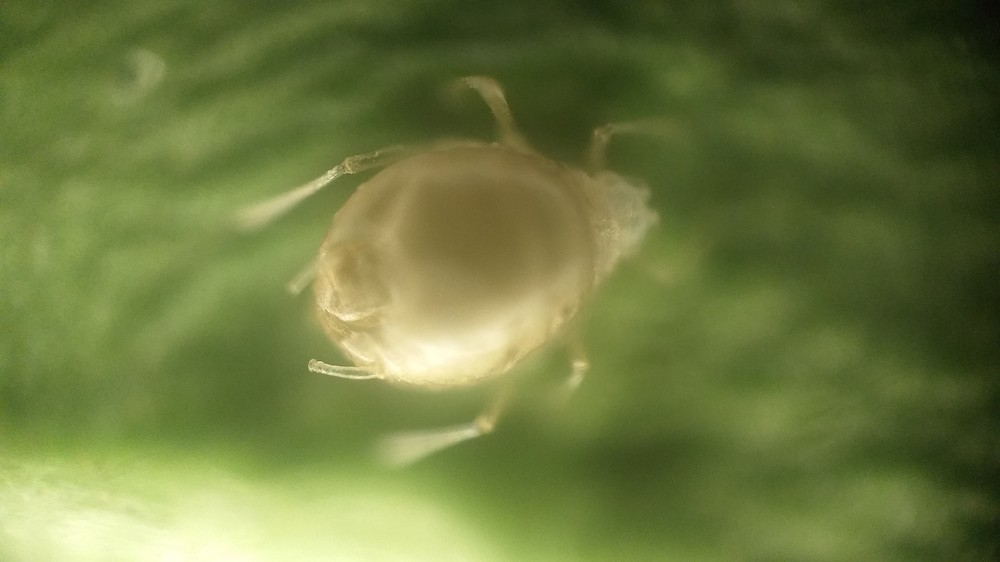Pulgon: (230, 73, 709, 486)
